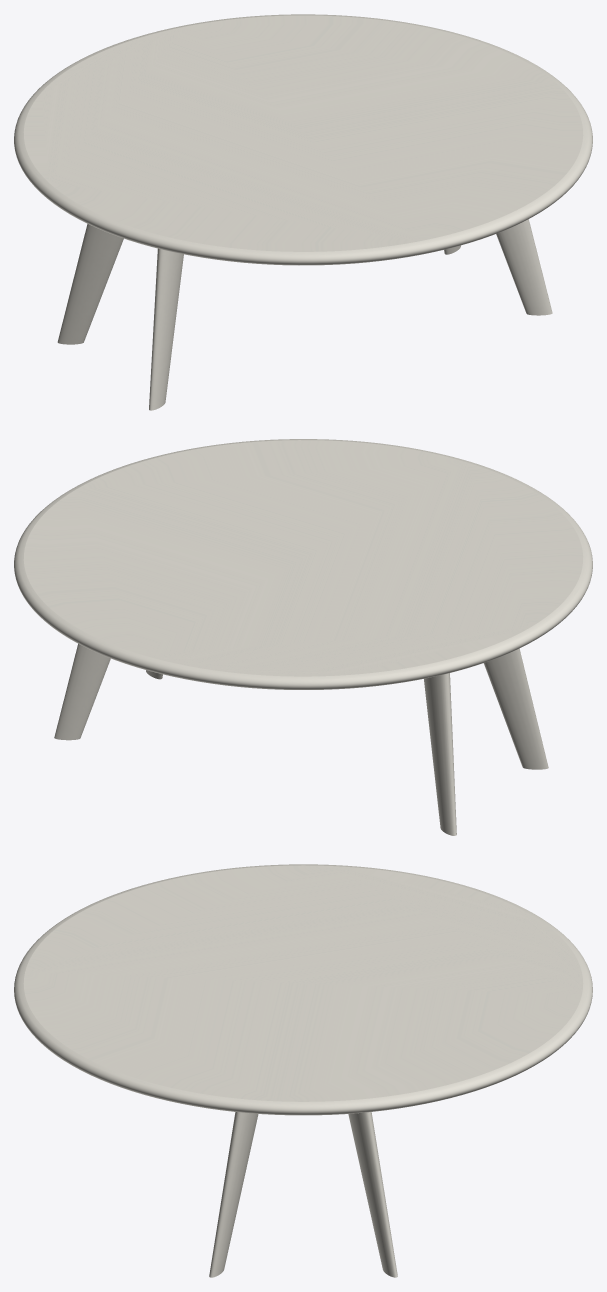
The model's file is pale_round_round_ferdinantwalnut.glb.
3 views of the same model, one above another, from view 1: azimuth 30°, elevation 25°; view 2: azimuth 150°, elevation 25°; view 3: azimuth 270°, elevation 25° (orthographic).
Parts seen in each view (by area): view 1: round_round, ferdinandwalnut; view 2: round_round, ferdinandwalnut; view 3: round_round, ferdinandwalnut.
Boxes of the visible parts, x1,y1,x2,y2 form: round_round: [14, 14, 592, 265]; ferdinandwalnut: [57, 219, 552, 410]; round_round: [14, 439, 592, 689]; ferdinandwalnut: [54, 643, 548, 835]; round_round: [14, 864, 592, 1115]; ferdinandwalnut: [209, 1112, 397, 1277].
Size of the model in its own units: 6.75 by 2.51 by 6.75.
1 material, 1 textured.
